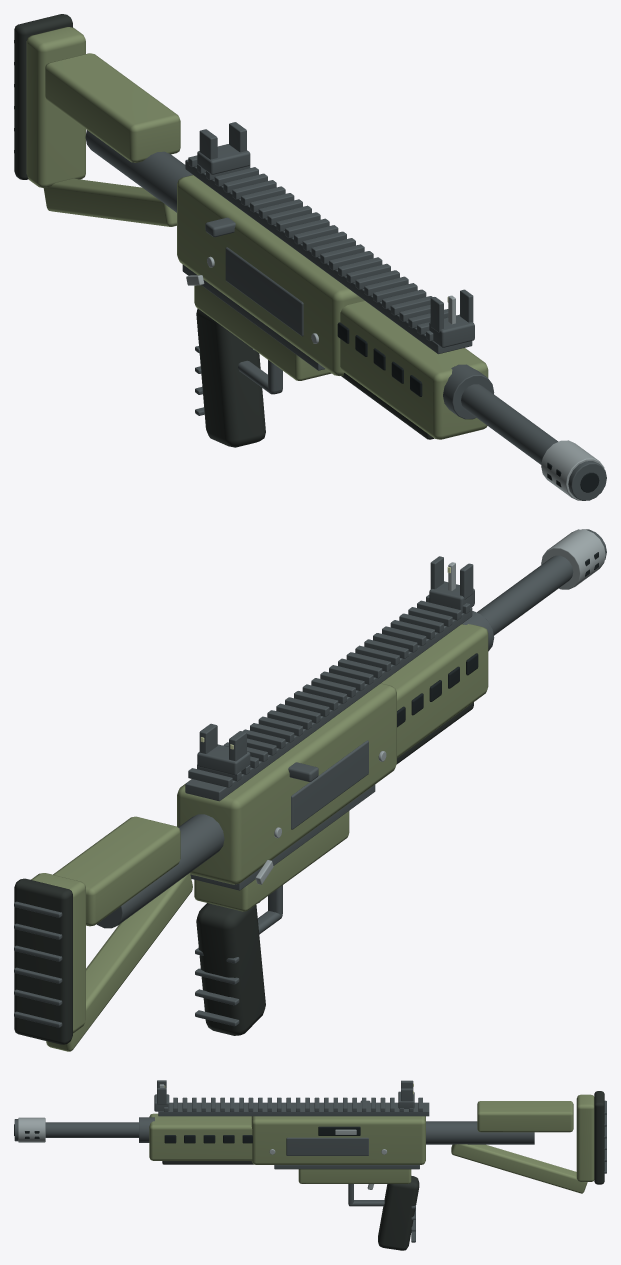
Rendered from Ranger.body.glb.
3 renders of one model, top to bottom at view 1: azimuth 30°, elevation 25°; view 2: azimuth 150°, elevation 25°; view 3: azimuth 270°, elevation 25°, orthographic. The views are drawn at different scales.
Visible parts, largest first — view 1: Equipment_Ranger_Body; view 2: Equipment_Ranger_Body; view 3: Equipment_Ranger_Body.
Boxes of the visible parts, left/top/right/bottom form: Equipment_Ranger_Body: left=14, top=14, right=606, bottom=500; Equipment_Ranger_Body: left=14, top=529, right=606, bottom=1051; Equipment_Ranger_Body: left=14, top=1080, right=606, bottom=1250.
Bounding box in the file's own units: 0.0855 × 0.2771 × 0.912.
